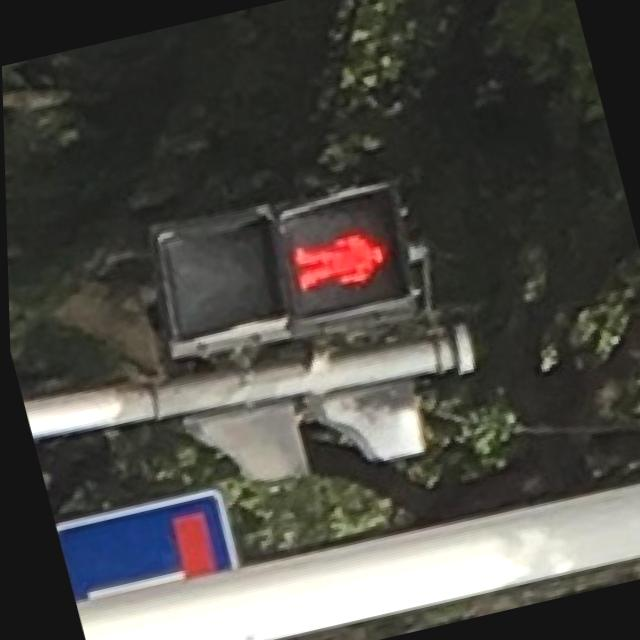red_light: (277, 206, 408, 324)
